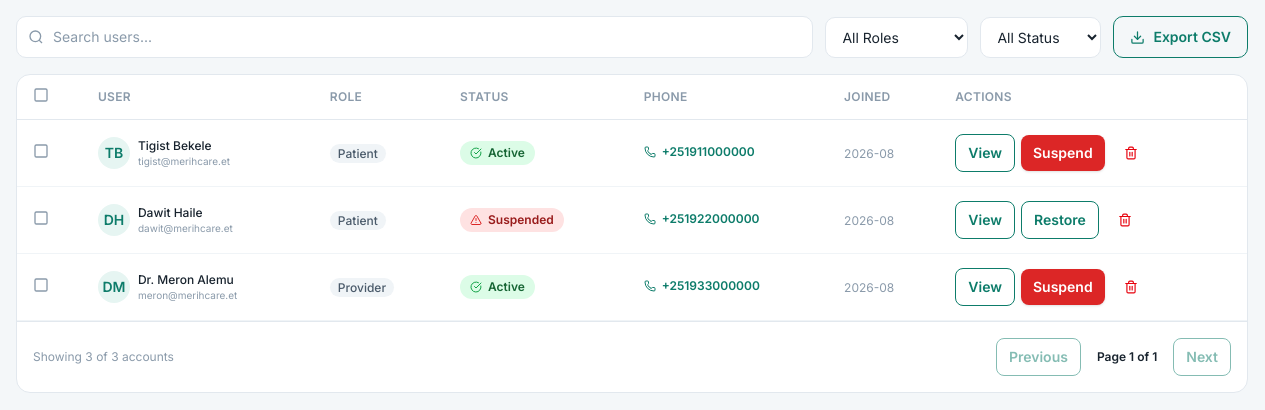
Test case: Admin Web - Users Management & Suspend/Restore Tests › should filter users by search input keyword
The image size is (1265, 410).
Expected: the text "Tigist Bekele" is shown, x1=138 y1=138 x2=212 y2=153
Step 1. Type "Dawit" into the field with placeholder "Search users..." → (415, 37), box x1=16 y1=16 x2=813 y2=58
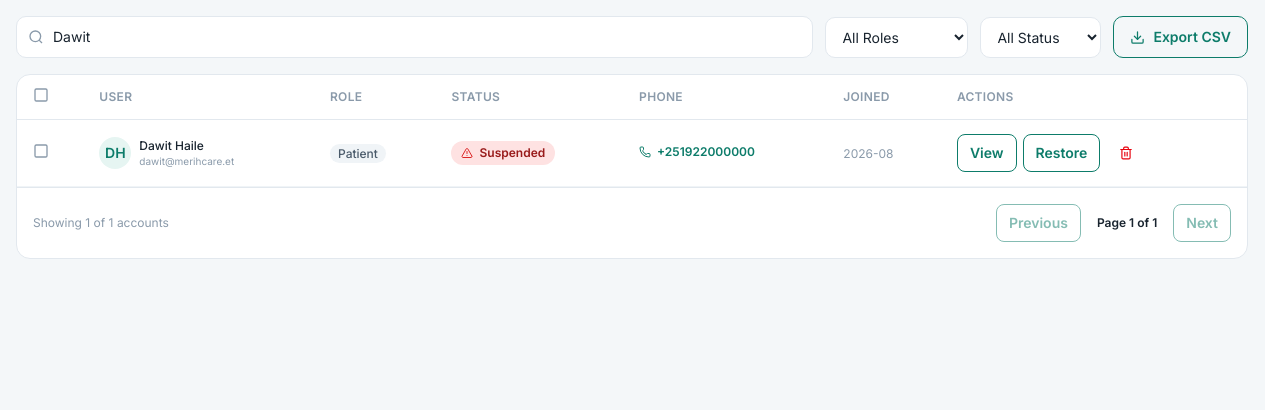
Expected: the text "Dawit Haile" is shown, x1=139 y1=138 x2=204 y2=153
Expected: the text "Tigist Bekele" is gone
